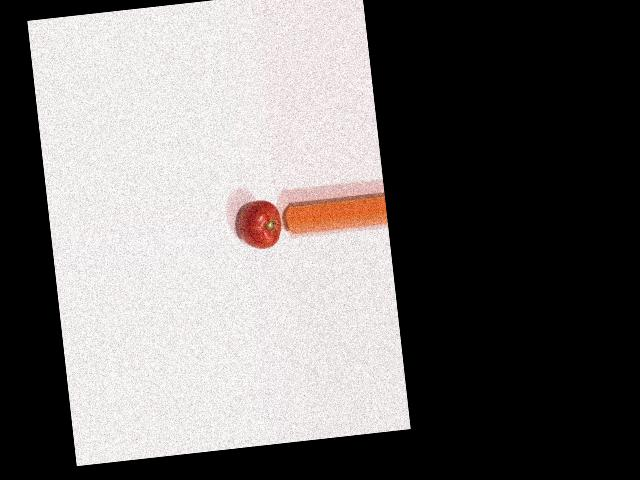tomato: (236, 199, 283, 251)
